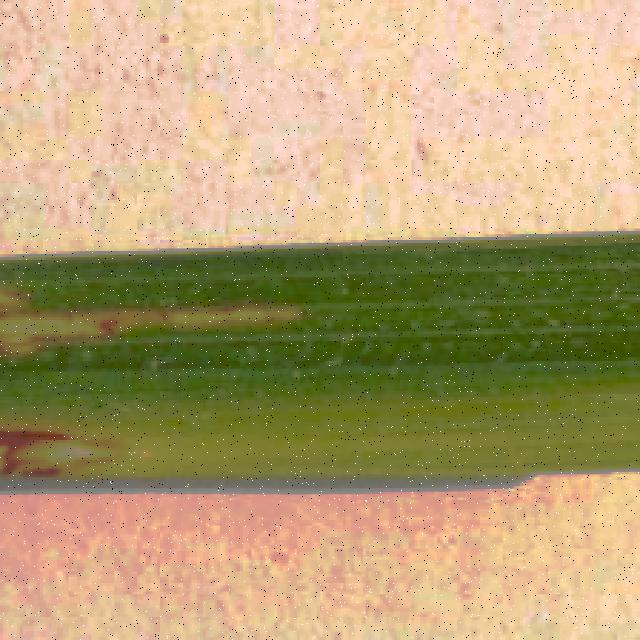unhealth: (0, 258, 640, 476)
